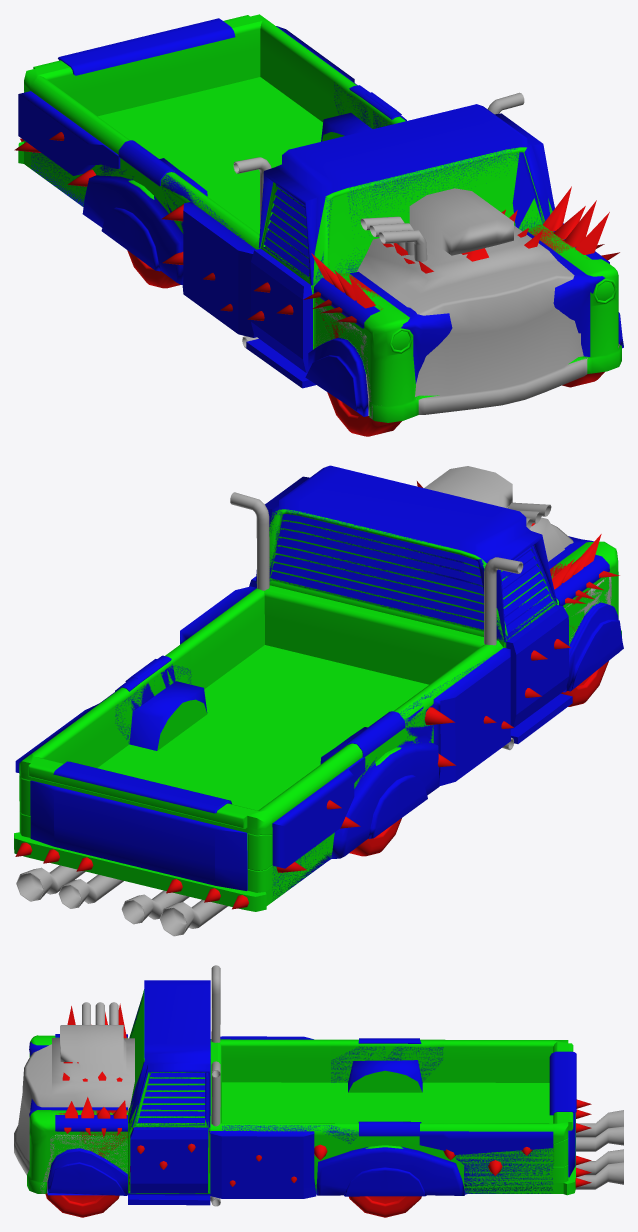
The model's file is Truck_Anims_1.fbx.
3 views of the same model, one above another, from view 1: azimuth 30°, elevation 25°; view 2: azimuth 150°, elevation 25°; view 3: azimuth 270°, elevation 25° (orthographic). The views are drawn at different scales.
Visible parts, largest first — view 1: Truck_Back_Basic, Truck_Front_speed, Truck_Back_armor, Truck_Cab_armor_top, Truck_Cab_Top_basic, Truck_Front_basic, Truck_Front_armor, Truck_Cab_armor_bottom, Truck_Front_attack, Truck_wheel_frontleft, Truck_wheel_backleft; view 2: Truck_Back_Basic, Truck_Back_armor, Truck_Cab_armor_top, Truck_Front_speed, Truck_Cab_Top_basic, Truck_Cab_armor_bottom, Truck_Front_armor, Truck_Front_attack, Truck_Front_basic, Truck_wheel_backleft, Truck_wheel_frontleft; view 3: Truck_Back_Basic, Truck_Back_armor, Truck_Front_speed, Truck_Cab_armor_top, Truck_Cab_armor_bottom, Truck_Front_armor, Truck_Front_basic, Truck_Front_attack, Truck_Cab_Top_basic, Truck_wheel_frontright, Truck_wheel_backright, Truck_Cab_bottom_basic.
Boxes of the visible parts, bbox=[...] form: Truck_Back_Basic: bbox=[18, 14, 405, 249]; Truck_Front_speed: bbox=[233, 92, 619, 418]; Truck_Back_armor: bbox=[18, 18, 406, 337]; Truck_Cab_armor_top: bbox=[258, 104, 554, 285]; Truck_Cab_Top_basic: bbox=[260, 147, 552, 285]; Truck_Front_basic: bbox=[315, 224, 621, 422]; Truck_Front_armor: bbox=[305, 231, 623, 416]; Truck_Cab_armor_bottom: bbox=[246, 223, 563, 388]; Truck_Front_attack: bbox=[14, 132, 619, 339]; Truck_wheel_frontleft: bbox=[327, 392, 401, 436]; Truck_wheel_backleft: bbox=[127, 250, 180, 288]; Truck_Back_Basic: bbox=[14, 585, 503, 911]; Truck_Back_armor: bbox=[15, 586, 510, 900]; Truck_Cab_armor_top: bbox=[256, 465, 557, 642]; Truck_Front_speed: bbox=[16, 466, 611, 936]; Truck_Cab_Top_basic: bbox=[269, 509, 556, 641]; Truck_Cab_armor_bottom: bbox=[249, 576, 572, 743]; Truck_Front_armor: bbox=[548, 536, 623, 692]; Truck_Front_attack: bbox=[15, 481, 619, 909]; Truck_Front_basic: bbox=[550, 541, 621, 645]; Truck_wheel_backleft: bbox=[349, 818, 401, 856]; Truck_wheel_frontleft: bbox=[561, 661, 608, 706]; Truck_Back_Basic: bbox=[210, 1039, 575, 1195]; Truck_Back_armor: bbox=[210, 1036, 576, 1198]; Truck_Front_speed: bbox=[14, 965, 623, 1206]; Truck_Cab_armor_top: bbox=[128, 980, 210, 1127]; Truck_Cab_armor_bottom: bbox=[128, 1127, 210, 1205]; Truck_Front_armor: bbox=[29, 1034, 127, 1195]; Truck_Front_basic: bbox=[27, 1035, 127, 1193]; Truck_Front_attack: bbox=[56, 1003, 591, 1187]; Truck_Cab_Top_basic: bbox=[128, 989, 208, 1127]; Truck_wheel_frontright: bbox=[45, 1193, 119, 1217]; Truck_wheel_backright: bbox=[349, 1196, 421, 1217]; Truck_Cab_bottom_basic: bbox=[128, 1121, 210, 1193].
Bounding box in the file's own units: 3.38 × 2.36 × 8.08.
